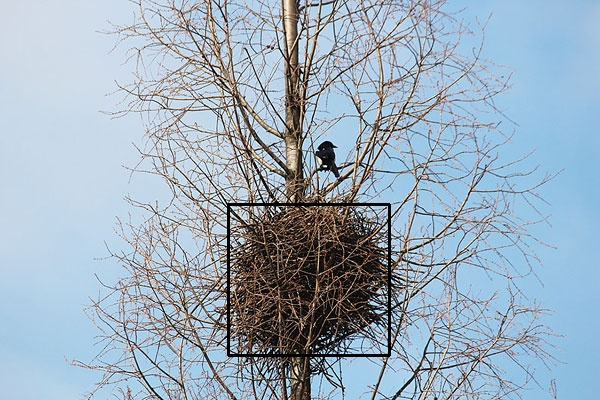bird-nest: (228, 204, 389, 355)
